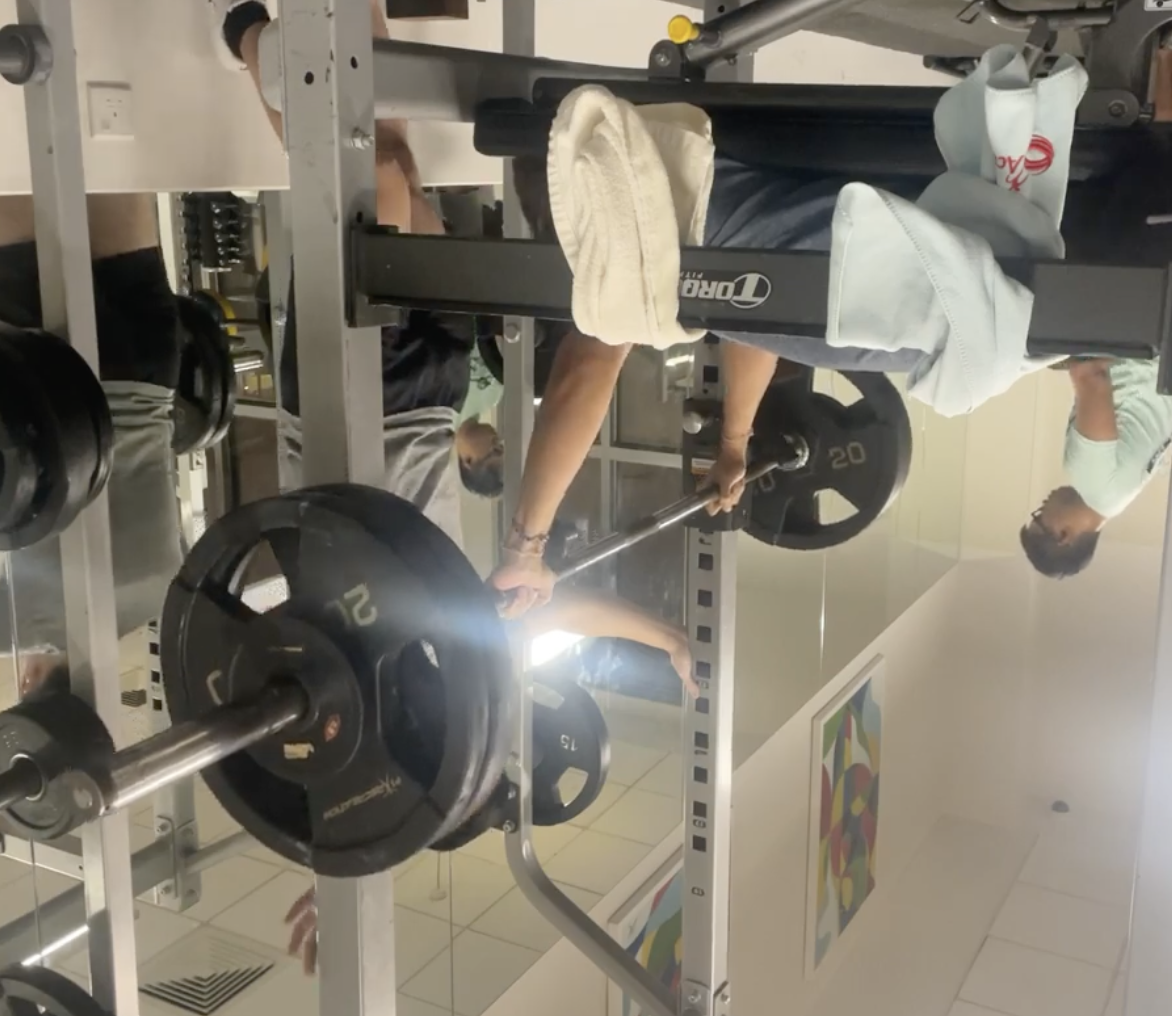barbell: (56, 780, 101, 825)
